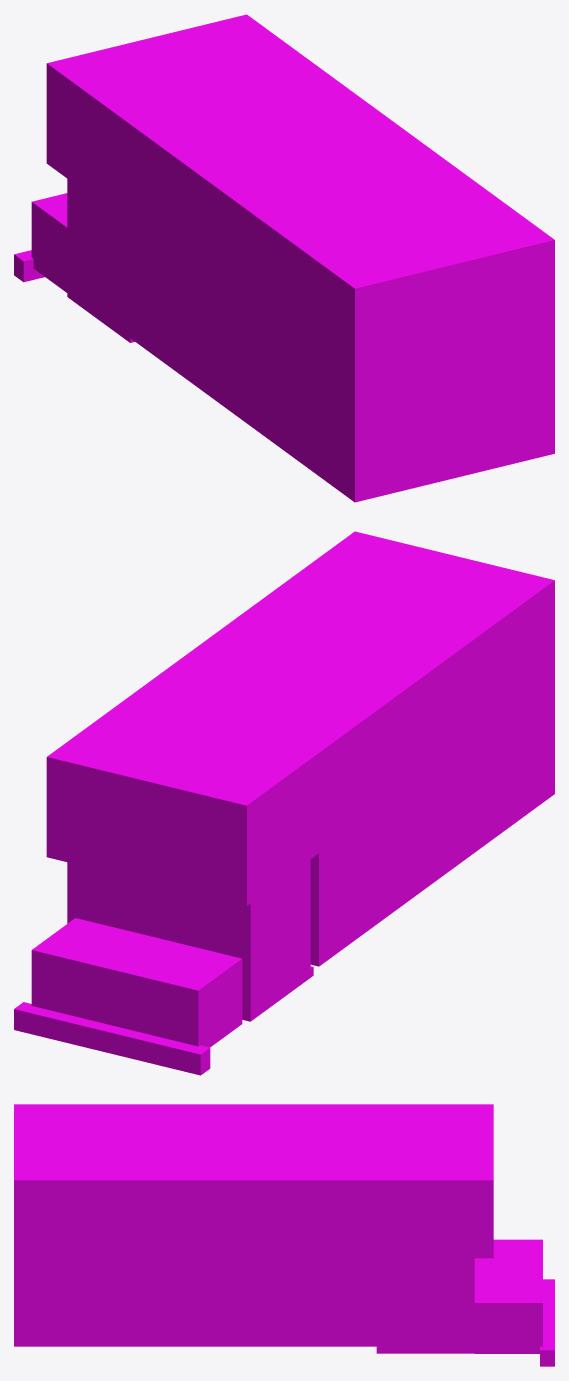
3 renders of one model, top to bottom at view 1: azimuth 30°, elevation 25°; view 2: azimuth 150°, elevation 25°; view 3: azimuth 270°, elevation 25°, orthographic. The views are drawn at different scales.
Parts seen in each view (by area): view 1: Hull_Living, Interior_Ceiling, Hull_Overcab, Hull_Cab, Hull_Hood, Interior_Dash, Interior_WallL, Hull_Bumper; view 2: Hull_Living, Hull_Overcab, Interior_Ceiling, Hull_Hood, Hull_Cab, Hull_Bumper, Interior_Dash, Interior_WallRear, Interior_WallR_Rear, Interior_WallL, Interior_BunkFloor; view 3: Hull_Living, Interior_Ceiling, Interior_WallR_Rear, Hull_Overcab, Hull_Cab, Hull_Hood, Interior_WallR_Front, Hull_Bumper, Interior_Dash, Interior_WallR_AboveDoor, Interior_CabFloor, Interior_WallL.
Part boxes in pixels (bbox=[...]): Hull_Living: bbox=[119, 67, 554, 502]; Interior_Ceiling: bbox=[47, 14, 554, 293]; Hull_Overcab: bbox=[46, 14, 318, 215]; Hull_Cab: bbox=[67, 179, 127, 340]; Hull_Hood: bbox=[31, 193, 67, 292]; Interior_Dash: bbox=[67, 235, 82, 307]; Interior_WallL: bbox=[121, 116, 359, 501]; Hull_Bumper: bbox=[14, 250, 44, 282]; Hull_Living: bbox=[120, 531, 554, 966]; Hull_Overcab: bbox=[46, 704, 318, 905]; Interior_Ceiling: bbox=[51, 532, 554, 810]; Hull_Hood: bbox=[31, 918, 242, 1047]; Hull_Cab: bbox=[67, 859, 310, 1021]; Hull_Bumper: bbox=[14, 1002, 210, 1075]; Interior_Dash: bbox=[67, 914, 266, 1020]; Interior_WallRear: bbox=[352, 533, 554, 795]; Interior_WallR_Rear: bbox=[179, 532, 359, 660]; Interior_WallL: bbox=[314, 580, 552, 965]; Interior_BunkFloor: bbox=[46, 852, 265, 905]; Hull_Living: bbox=[14, 1104, 380, 1346]; Interior_Ceiling: bbox=[14, 1104, 493, 1184]; Interior_WallR_Rear: bbox=[14, 1178, 287, 1346]; Hull_Overcab: bbox=[381, 1104, 493, 1258]; Hull_Cab: bbox=[381, 1258, 474, 1349]; Hull_Hood: bbox=[474, 1239, 542, 1353]; Interior_WallR_Front: bbox=[343, 1178, 380, 1346]; Hull_Bumper: bbox=[540, 1279, 554, 1366]; Interior_Dash: bbox=[450, 1305, 474, 1353]; Interior_WallR_AboveDoor: bbox=[287, 1178, 343, 1212]; Interior_CabFloor: bbox=[376, 1346, 474, 1353]; Interior_WallL: bbox=[14, 1104, 380, 1106].
Bounding box in the file's own units: 2.4 × 2.78 × 7.22.
